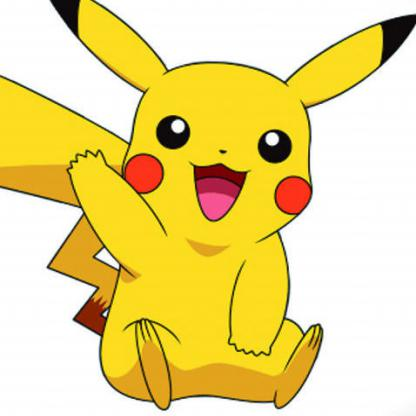Pikachu: (1, 1, 410, 416)
